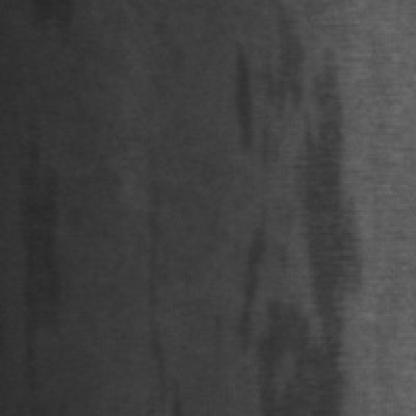inclusion: (237, 19, 370, 412), (15, 137, 77, 393), (144, 202, 192, 410), (224, 31, 262, 154)
